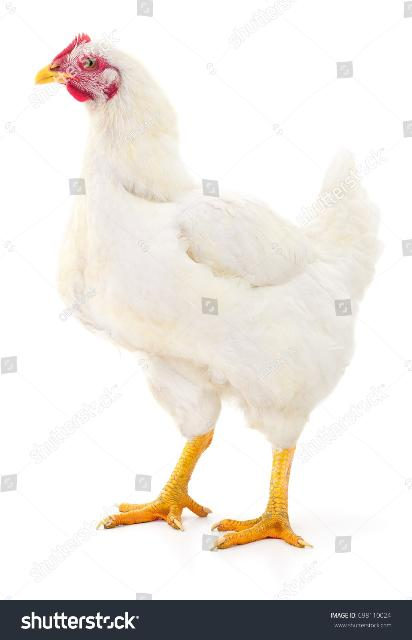Chicken: (35, 29, 384, 550)
